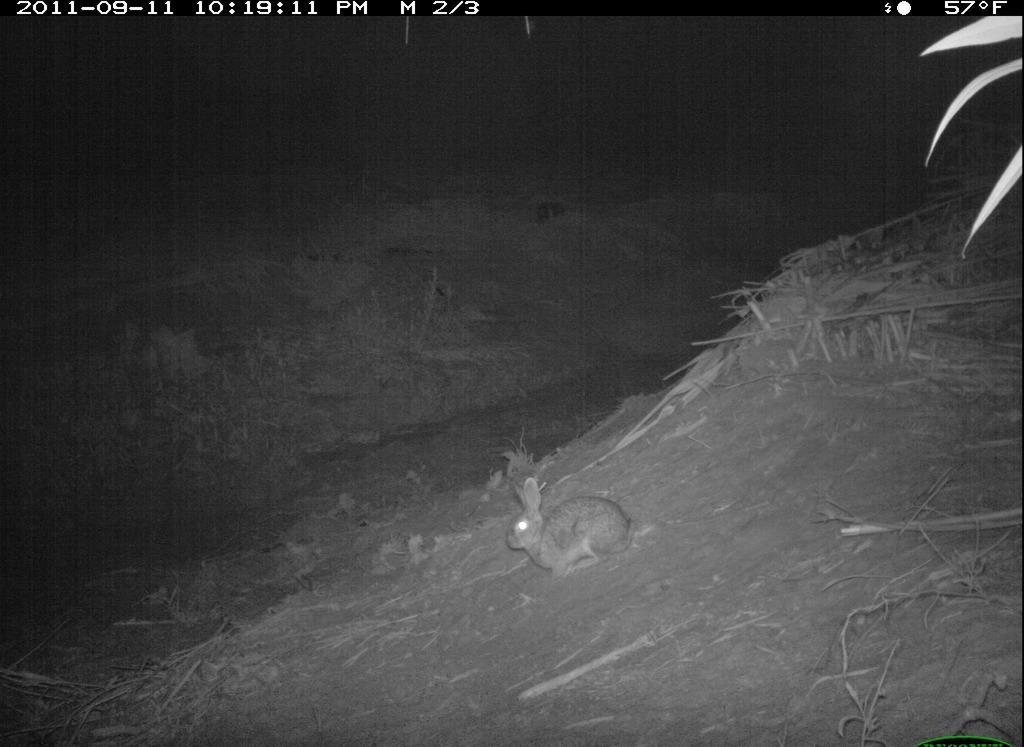rabbit: (460, 469, 666, 578)
